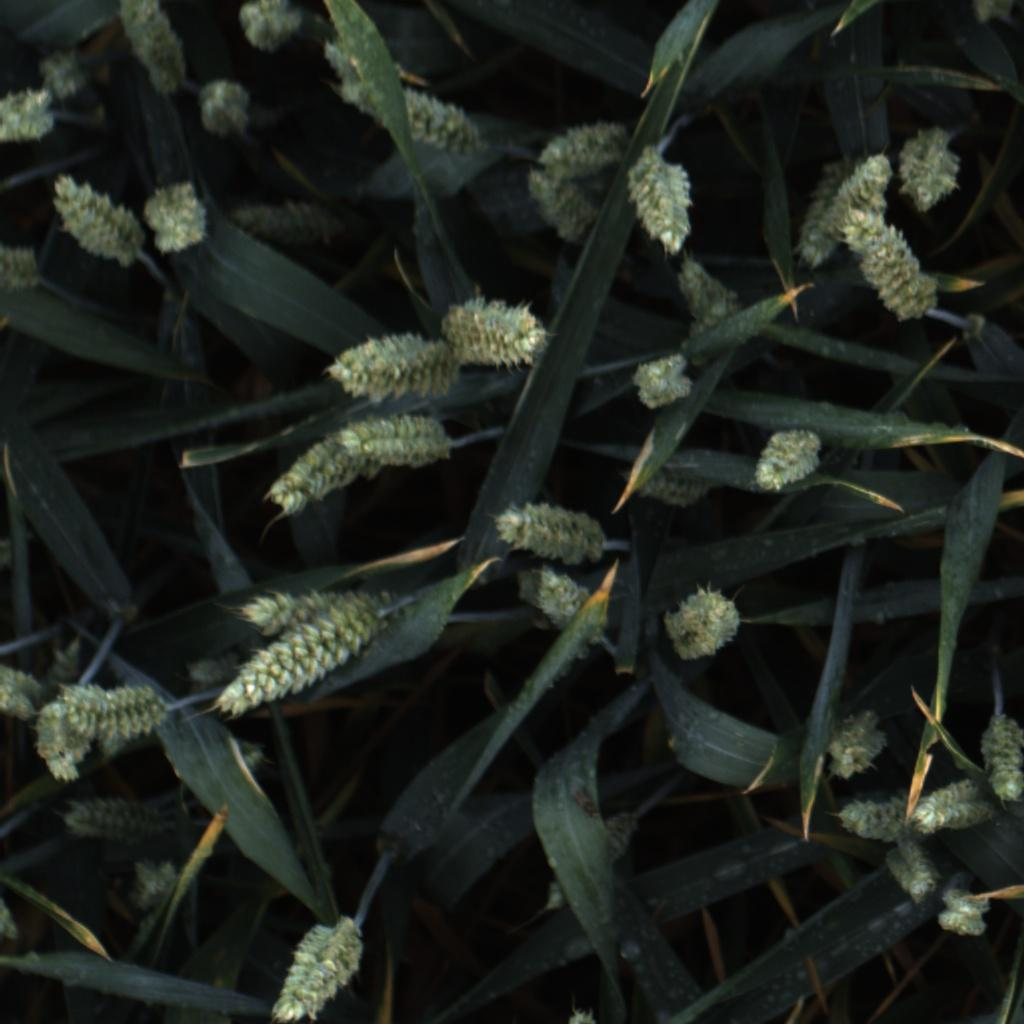0-0: (331, 44, 488, 168), (214, 615, 370, 737), (231, 562, 408, 647), (842, 209, 944, 329), (532, 806, 643, 911), (268, 911, 367, 1024), (319, 329, 460, 404), (46, 167, 140, 275), (258, 435, 377, 515), (438, 298, 561, 375), (493, 492, 613, 568), (623, 144, 702, 259), (234, 193, 361, 258), (662, 578, 745, 667), (112, 0, 187, 97), (65, 674, 169, 742), (673, 243, 748, 336), (341, 412, 459, 471), (793, 152, 851, 268), (513, 163, 599, 241), (63, 790, 176, 849), (896, 122, 967, 215), (908, 766, 996, 839), (522, 558, 600, 639), (141, 173, 209, 265), (749, 426, 833, 497), (536, 116, 632, 178), (28, 695, 95, 782), (819, 707, 895, 783), (233, 0, 326, 62), (617, 459, 718, 512), (37, 626, 97, 714), (836, 138, 897, 224), (617, 346, 695, 413), (120, 850, 188, 924), (828, 788, 913, 846), (0, 74, 57, 159), (194, 71, 261, 143), (974, 712, 1024, 808), (0, 656, 57, 735), (879, 841, 943, 908), (937, 880, 999, 938), (32, 46, 93, 103), (1, 232, 36, 296)
